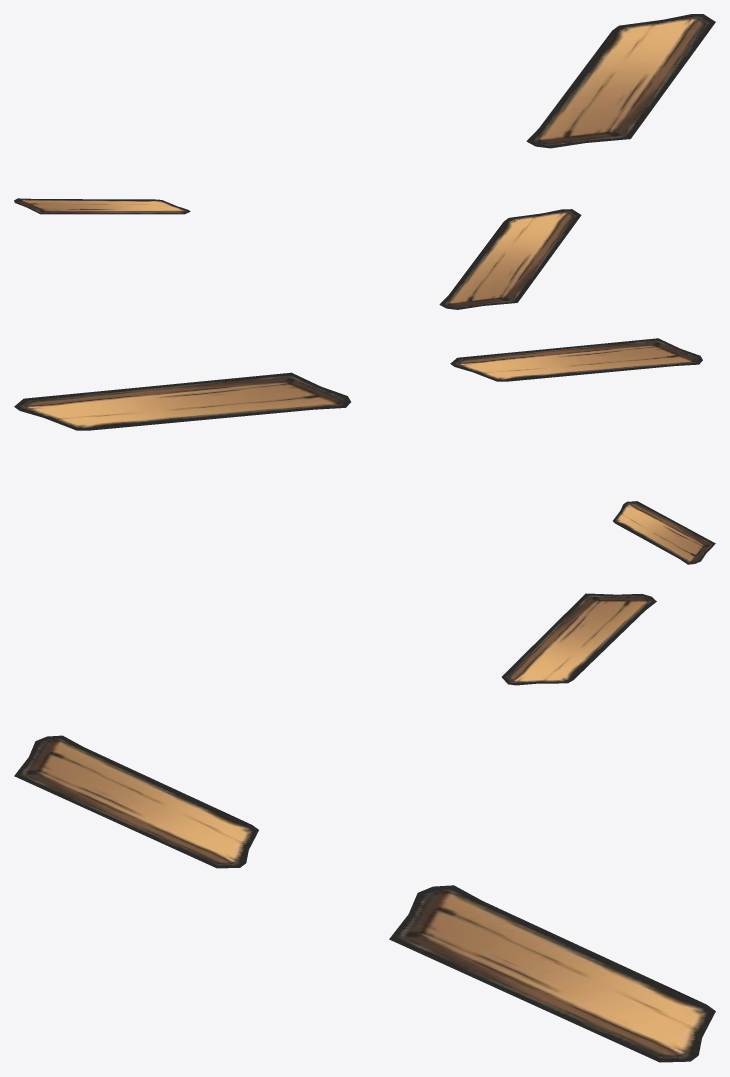
The model's file is wood_particle_1.glb.
The picture shows the model from 3 angles, top to bottom: view 1: azimuth 30°, elevation 25°; view 2: azimuth 150°, elevation 25°; view 3: azimuth 270°, elevation 25°; orthographic projection. The views are drawn at different scales.
Parts seen in each view (by area): view 1: UI_Wood001 (×3); view 2: UI_Wood001 (×3); view 3: UI_Wood001 (×3).
Boxes of the visible parts, left/top/right/bottom form: UI_Wood001 (×3): left=14, top=14, right=715, bottom=309; UI_Wood001 (×3): left=14, top=338, right=715, bottom=564; UI_Wood001 (×3): left=14, top=593, right=715, bottom=1062.
Size of the model in its own units: 2.69 by 0.037 by 1.68.
3 materials, 3 textured.
